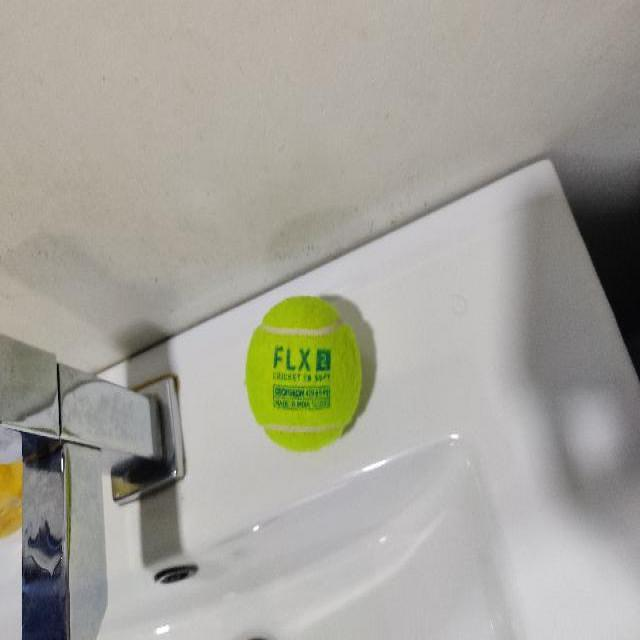tennis-ball: (243, 293, 363, 455)
